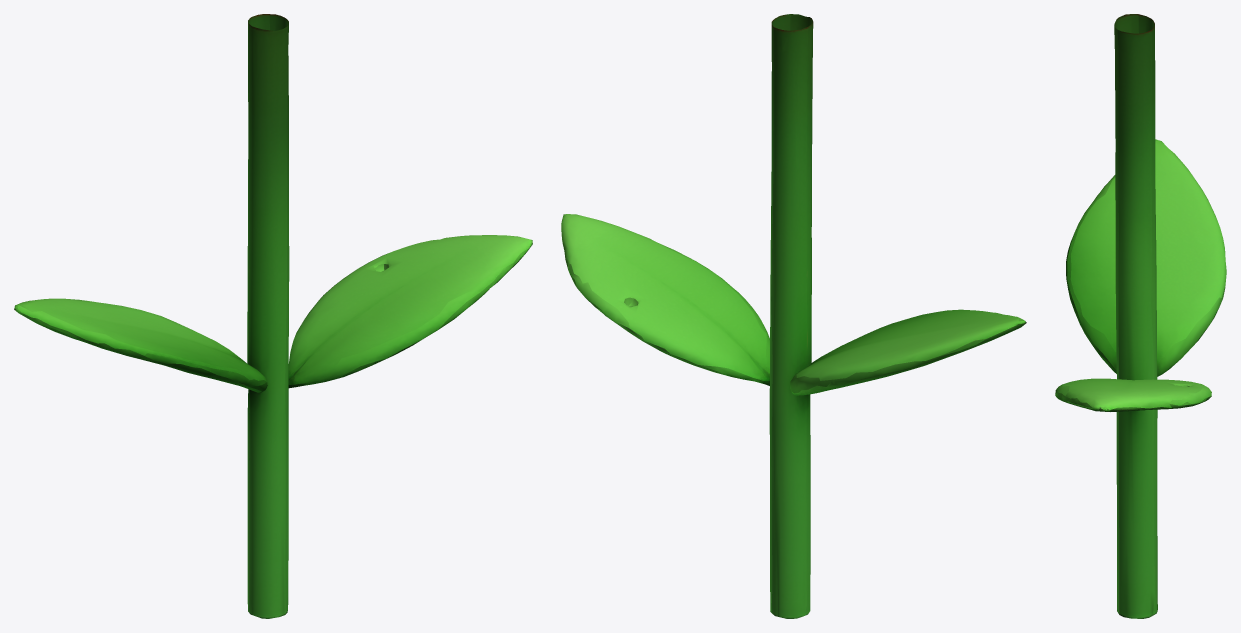
File: stem.fbx
3 views of the same model, side by side, from view 1: azimuth 30°, elevation 25°; view 2: azimuth 150°, elevation 25°; view 3: azimuth 270°, elevation 25° (orthographic).
Visible parts, largest first — view 1: geometry_0; view 2: geometry_0; view 3: geometry_0.
Part boxes in pixels (x1,y1,x2,y2): geometry_0: (14, 14, 532, 618); geometry_0: (561, 14, 1026, 618); geometry_0: (1055, 14, 1226, 618).
Size of the model in its own units: 0.706 by 0.8111 by 0.2144.
